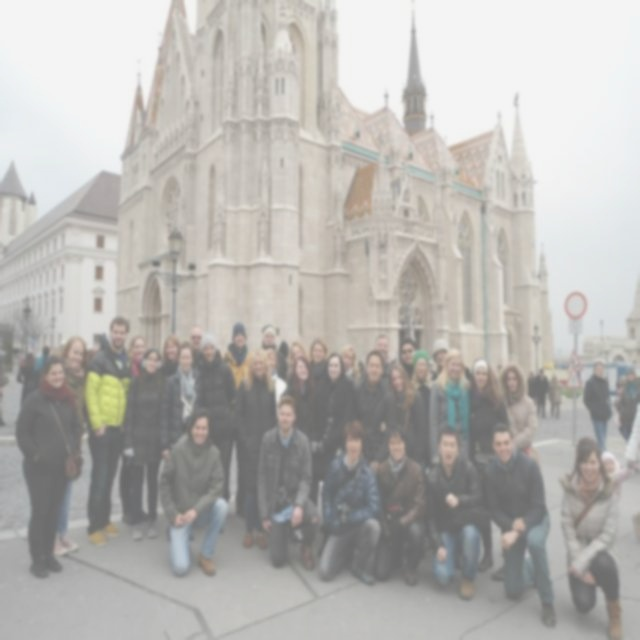pessoa: (477, 418, 560, 632), (12, 353, 84, 579), (553, 431, 625, 639), (158, 407, 230, 579), (316, 416, 383, 590), (84, 316, 134, 548), (422, 422, 486, 603), (256, 393, 321, 571), (466, 357, 512, 582), (368, 420, 429, 588), (45, 333, 90, 558), (121, 344, 171, 542), (232, 346, 280, 552), (193, 332, 239, 520), (278, 353, 326, 508), (313, 351, 357, 509), (350, 348, 400, 478), (220, 322, 252, 520), (158, 340, 204, 463), (382, 362, 432, 469), (428, 348, 470, 464), (496, 360, 540, 462), (582, 360, 614, 452), (600, 448, 640, 505), (430, 338, 472, 384), (618, 366, 640, 446), (260, 324, 289, 382), (410, 348, 434, 412), (284, 341, 314, 386), (15, 351, 38, 408), (374, 332, 394, 390), (624, 400, 640, 468), (336, 343, 362, 381), (532, 366, 550, 419), (161, 332, 181, 378), (398, 335, 418, 381), (127, 333, 148, 376), (307, 338, 328, 381), (546, 370, 562, 420), (0, 352, 10, 428), (189, 324, 204, 374), (34, 346, 52, 374), (600, 375, 614, 408), (526, 370, 538, 408), (276, 339, 292, 367), (84, 346, 99, 366), (490, 362, 502, 386), (615, 374, 627, 396), (98, 330, 110, 350), (48, 346, 64, 360), (356, 358, 366, 380), (11, 345, 21, 358)
